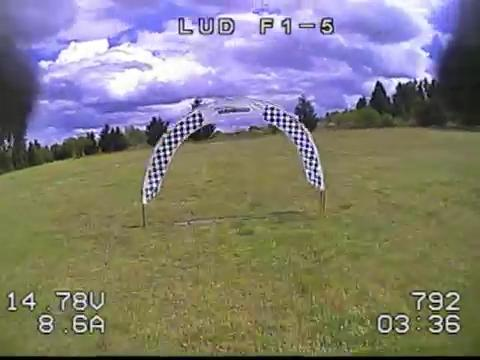gate: (141, 98, 327, 200)
